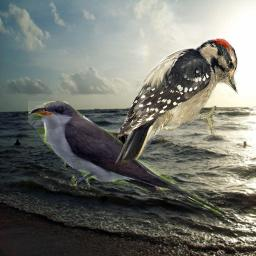Cuckoo: (28, 101, 221, 217)
Woodpecker: (104, 36, 238, 170)
